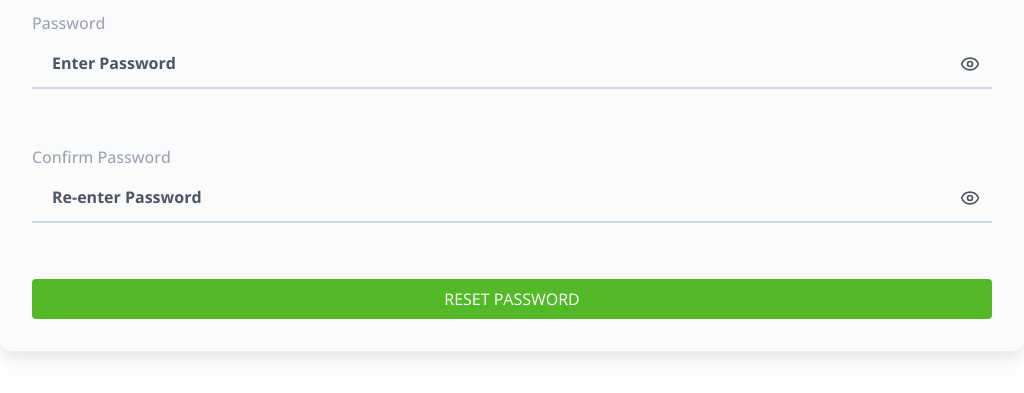
Test case: Set New Password Form Test › should display error message when password are not the same
Type "Test!1234" into the password field labelled "Password" at {"x": 512, "y": 64}, box top-left (32, 39), bottom-right (992, 89)
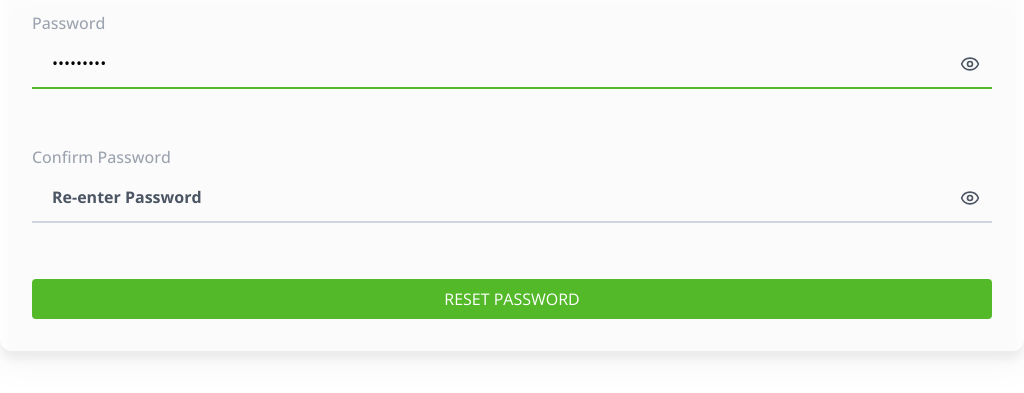
Type "Test!12356" into the password field labelled "Confirm Password" at {"x": 512, "y": 198}, box top-left (32, 173), bottom-right (992, 223)
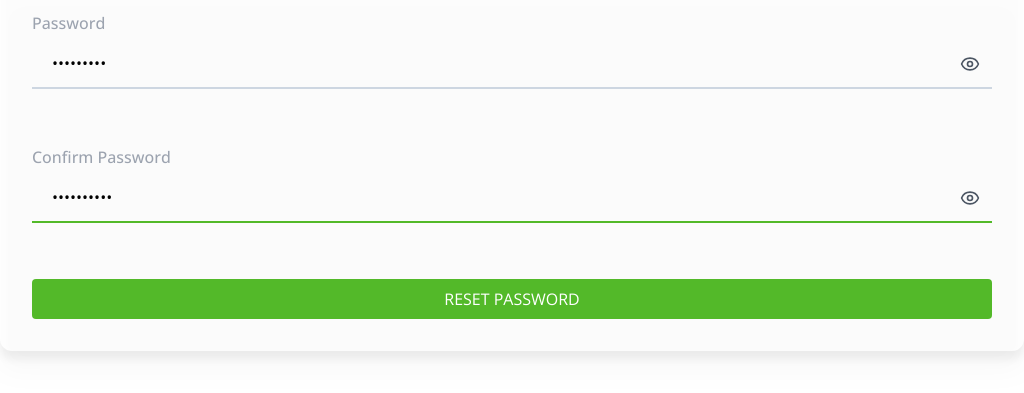
Click the button "Reset Password" at {"x": 512, "y": 299}, box top-left (32, 279), bottom-right (992, 319)
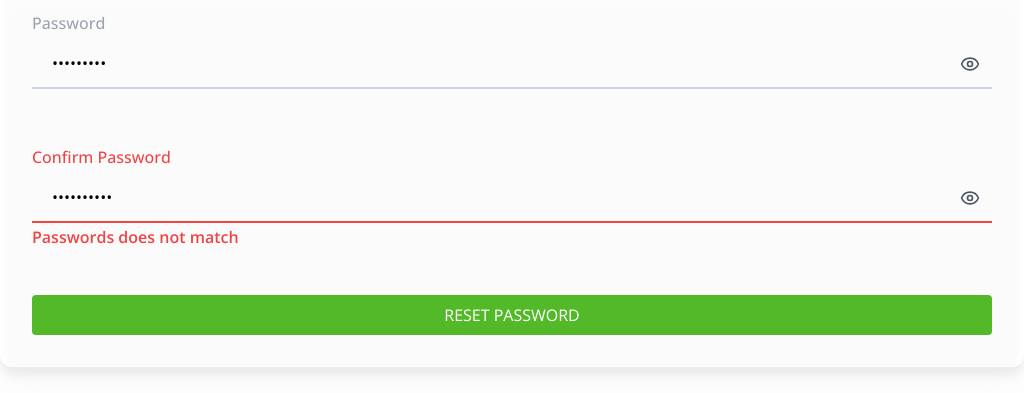
Now the text "Passwords does not match" is shown, box top-left (32, 226), bottom-right (239, 248)
